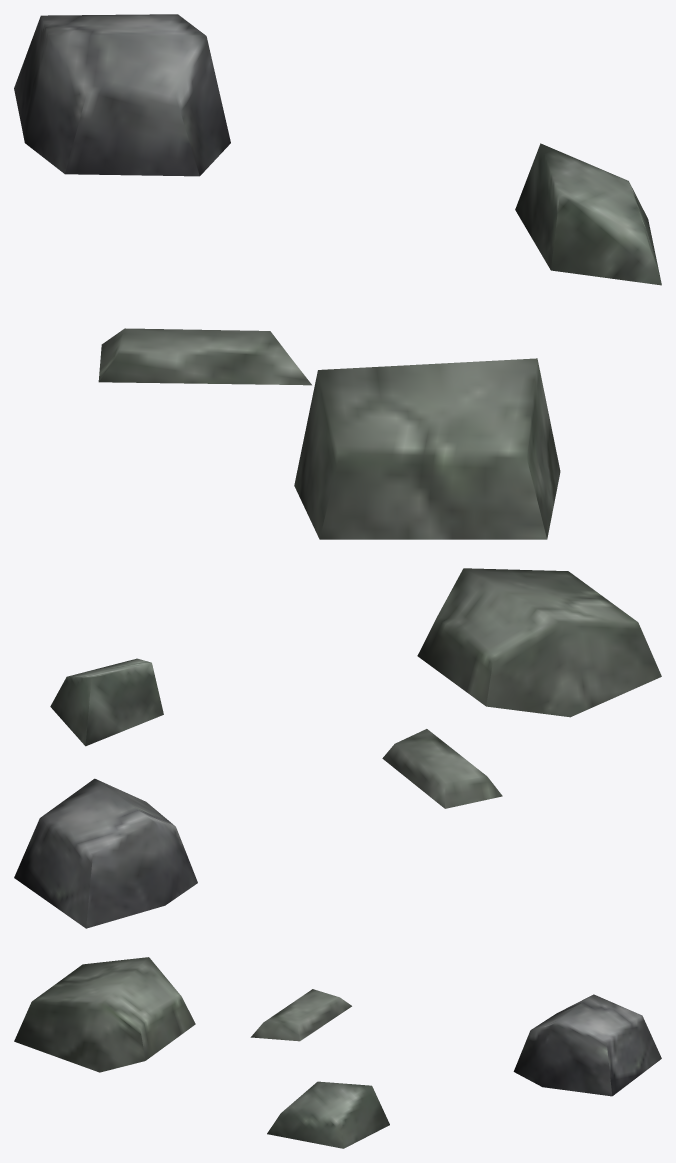
Rendered from Area_13_48.fbx.
3 views of the same model, one above another, from view 1: azimuth 30°, elevation 25°; view 2: azimuth 150°, elevation 25°; view 3: azimuth 270°, elevation 25° (orthographic). The views are drawn at different scales.
Visible parts, largest first — view 1: Area_13_48; view 2: Area_13_48; view 3: Area_13_48.
Part boxes in pixels (<box>): Area_13_48: <box>14,14,661,539</box>; Area_13_48: <box>14,568,661,928</box>; Area_13_48: <box>14,957,661,1148</box>.
Bounding box in the file's own units: 165 × 31.77 × 295.
